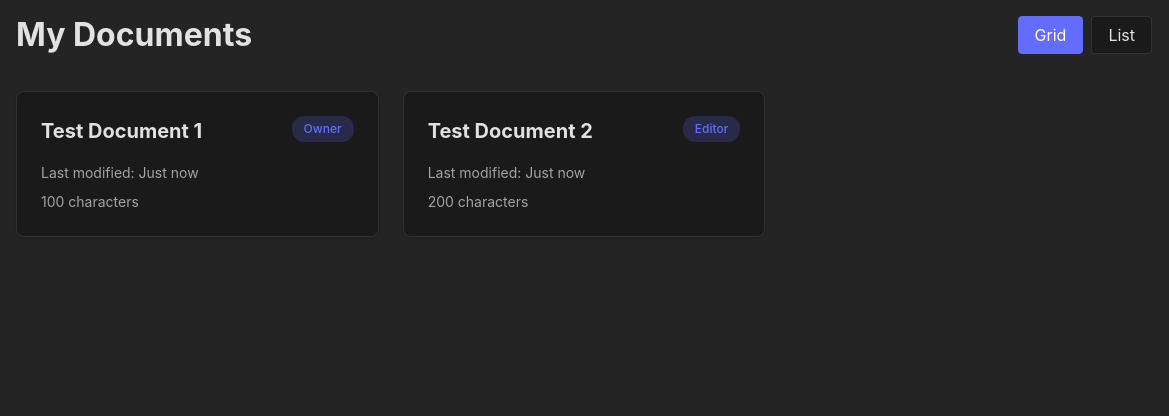
DocumentList › toggles between grid and list view
Expected: the heading "Test Document 1" is shown, [41, 119, 202, 143]
Click the button with aria-label "List view" at [1122, 35], box [1091, 16, 1152, 54]
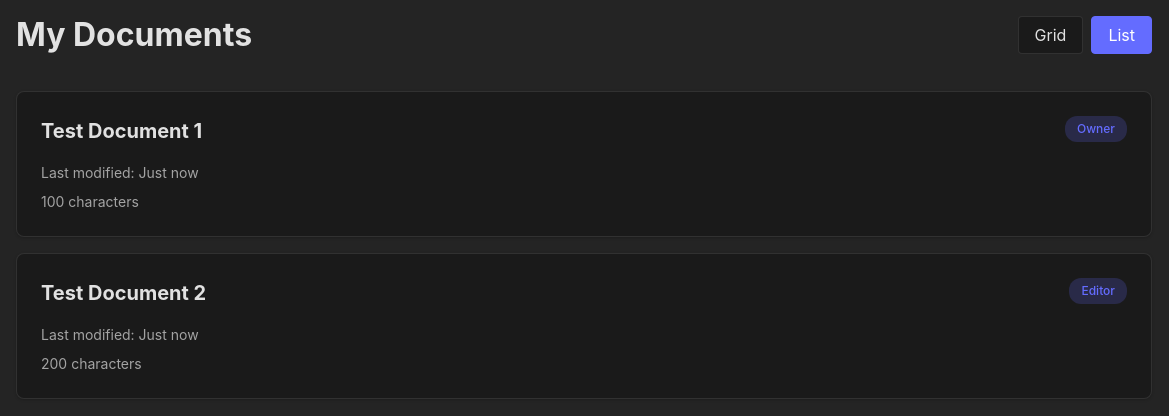
Expected: the list with class "documents-list" is shown
